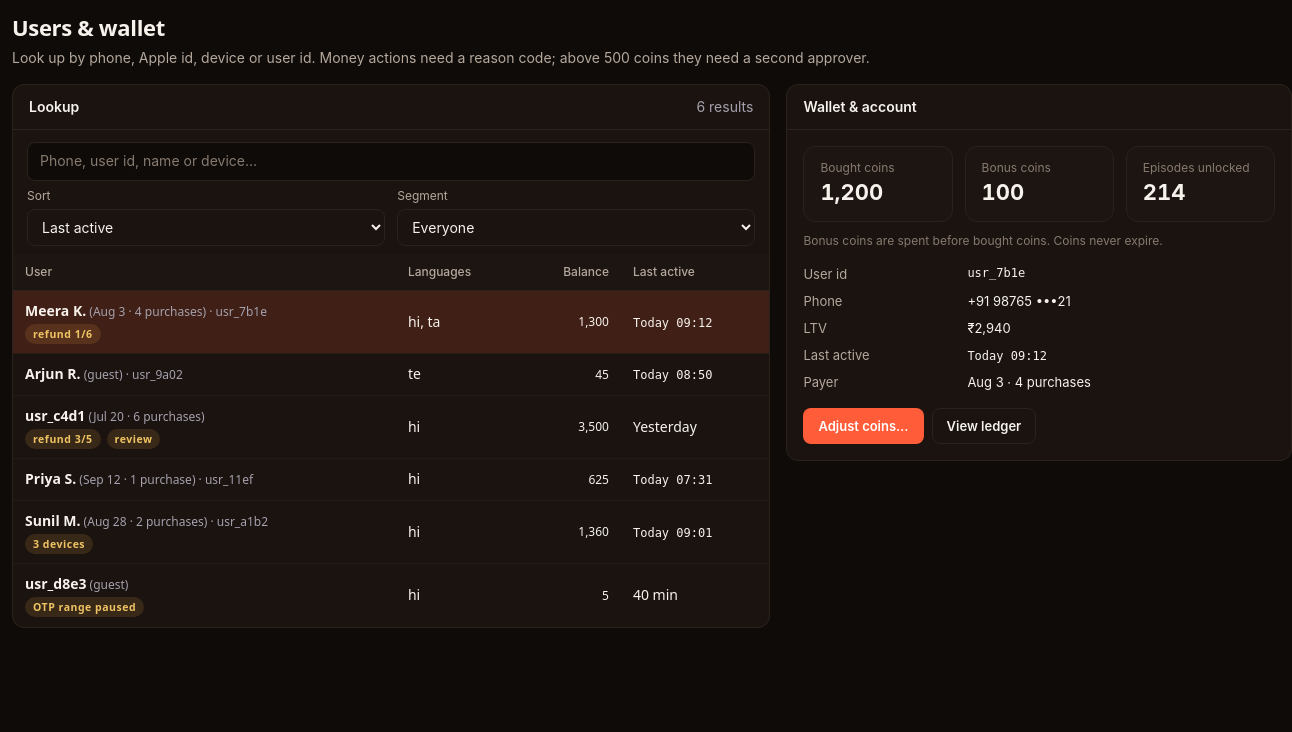
Scenario: Users view — lookup + wallet › filters the lookup list by query (offline sample honors it too)
Check: the text "Meera K." is shown, box [25,301,86,320]
Type "priya" into the field named "Search users" at (391, 162), box [27,142,755,181]
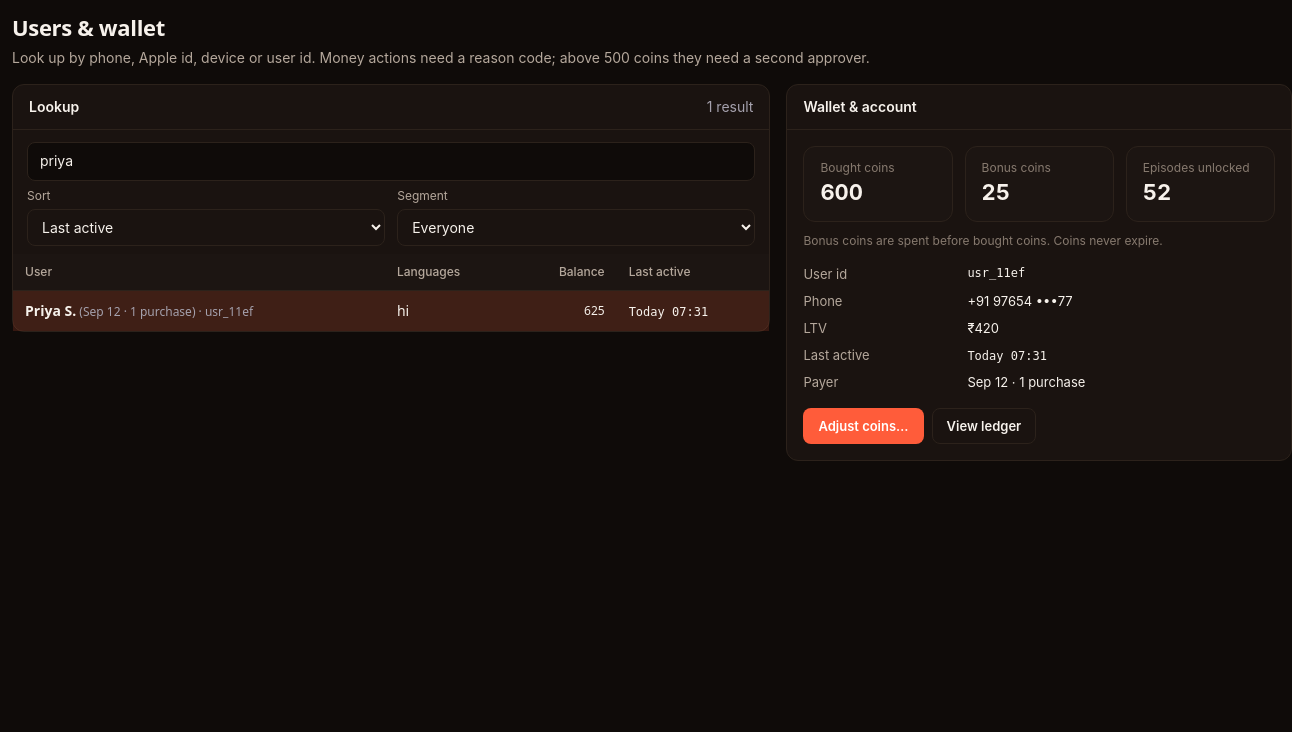
Check: the text "Priya S." is shown, box [25,301,76,320]
Check: the text "Meera K." is gone
